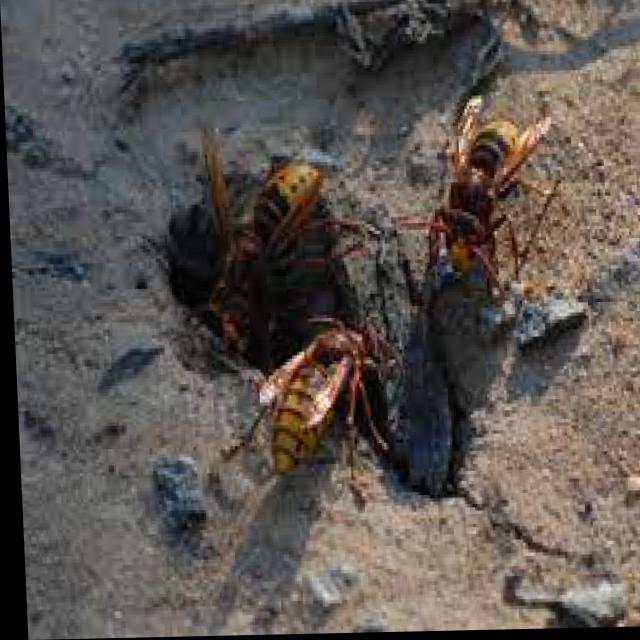Vespa Crabro: (170, 112, 368, 335), (242, 300, 408, 522), (416, 60, 559, 278)
